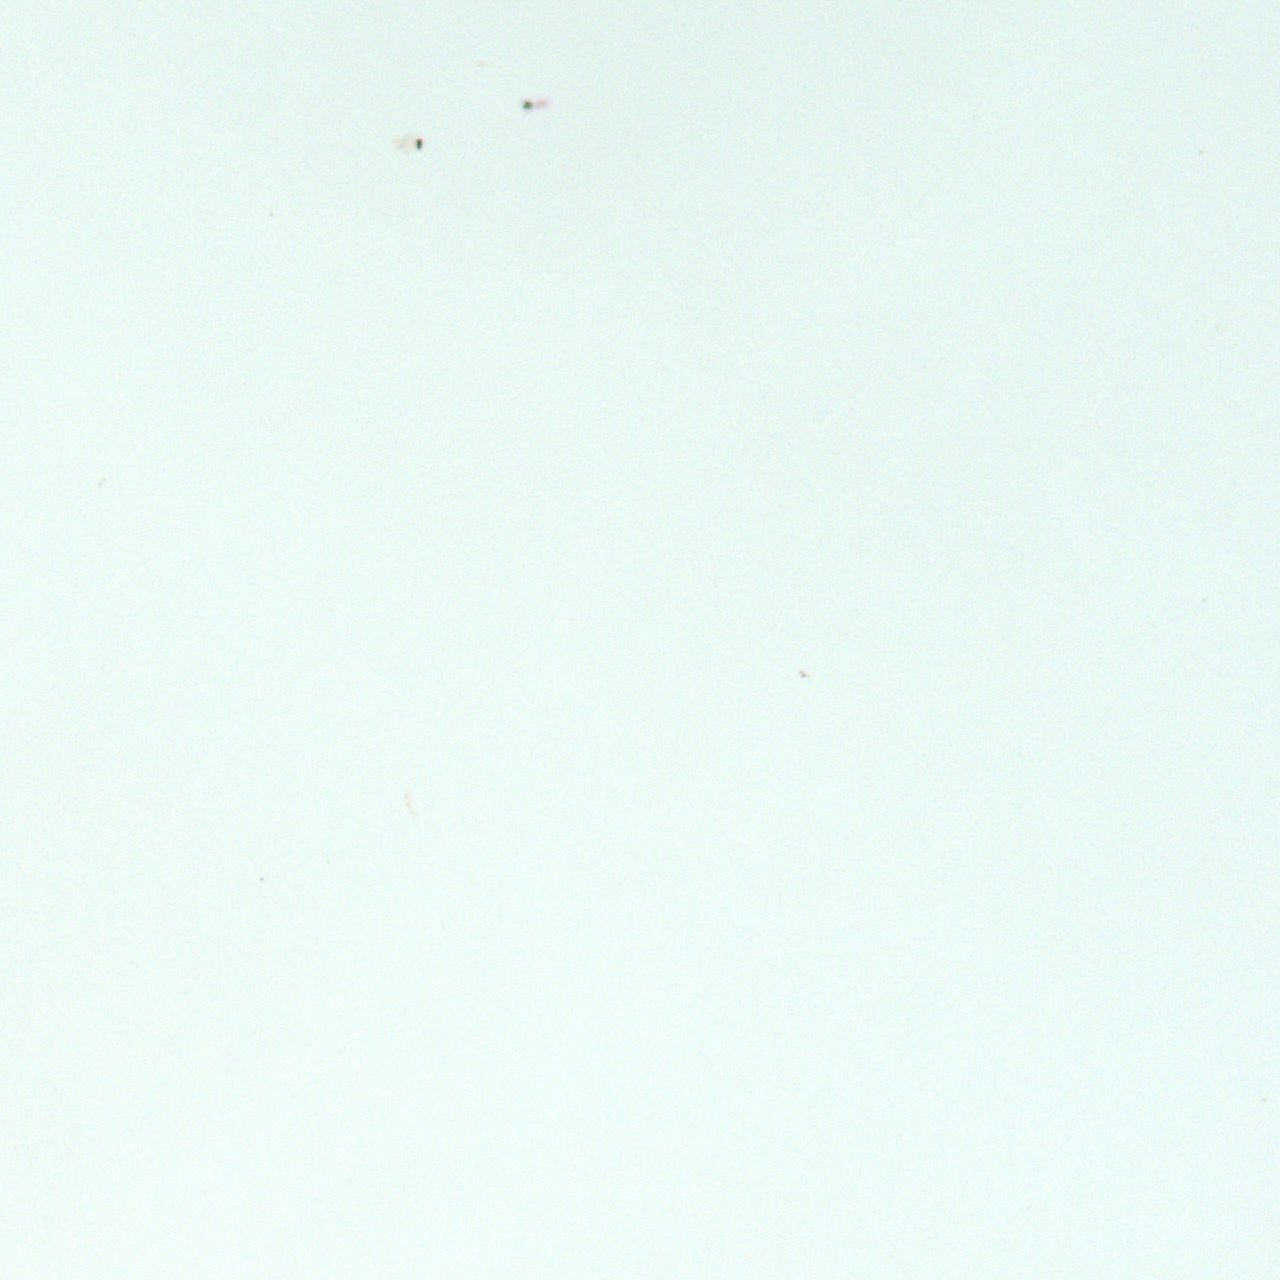dust: (797, 669, 810, 681), (522, 101, 532, 108), (416, 138, 421, 149)
